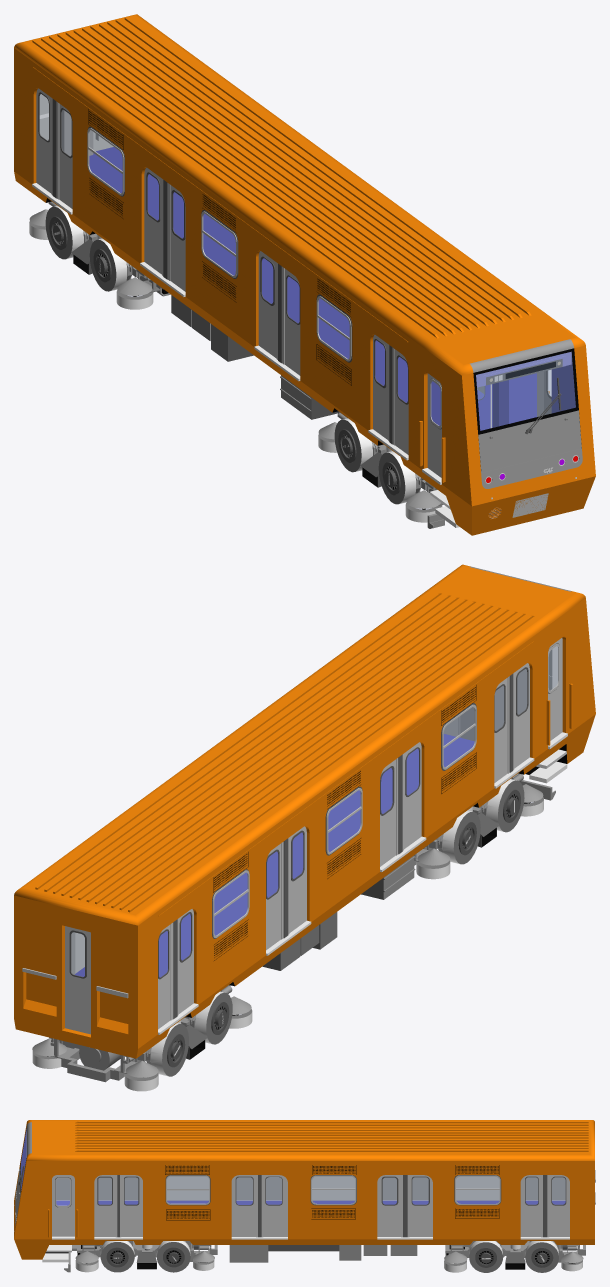
3 renders of one model, top to bottom at view 1: azimuth 30°, elevation 25°; view 2: azimuth 150°, elevation 25°; view 3: azimuth 270°, elevation 25°, orthographic. The views are drawn at different scales.
Parts seen in each view (by area): view 1: $ColladaAutoName$_0, ID1529, ID3861; view 2: $ColladaAutoName$_0, ID3861, ID1529; view 3: $ColladaAutoName$_0, ID1529, ID3861, ID4_node_1, ID4, ID4_node_3, ID4_node, ID4_node_0, ID4_node_2.
Boxes of the visible parts, x1,y1,x2,y2 form: $ColladaAutoName$_0: [14, 14, 595, 535]; ID1529: [318, 411, 444, 528]; ID3861: [29, 201, 170, 309]; $ColladaAutoName$_0: [14, 564, 595, 1058]; ID3861: [32, 985, 252, 1091]; ID1529: [414, 773, 555, 879]; $ColladaAutoName$_0: [14, 1120, 595, 1262]; ID1529: [64, 1241, 217, 1272]; ID3861: [444, 1241, 585, 1272]; ID4_node_1: [311, 1208, 355, 1219]; ID4: [166, 1209, 210, 1220]; ID4_node_3: [455, 1208, 499, 1218]; ID4_node: [165, 1165, 209, 1174]; ID4_node_0: [312, 1165, 356, 1174]; ID4_node_2: [455, 1165, 499, 1174].
Size of the model in its own units: 4.41 by 6 by 26.48.
